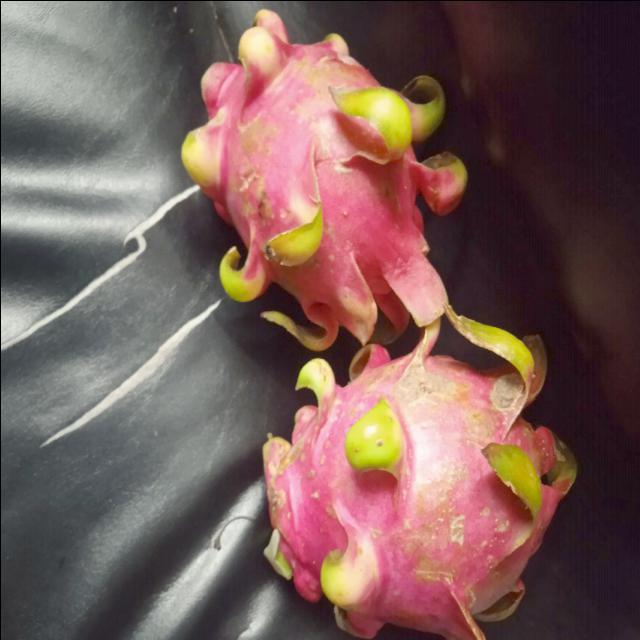do: (258, 334, 585, 639), (178, 11, 468, 333)
